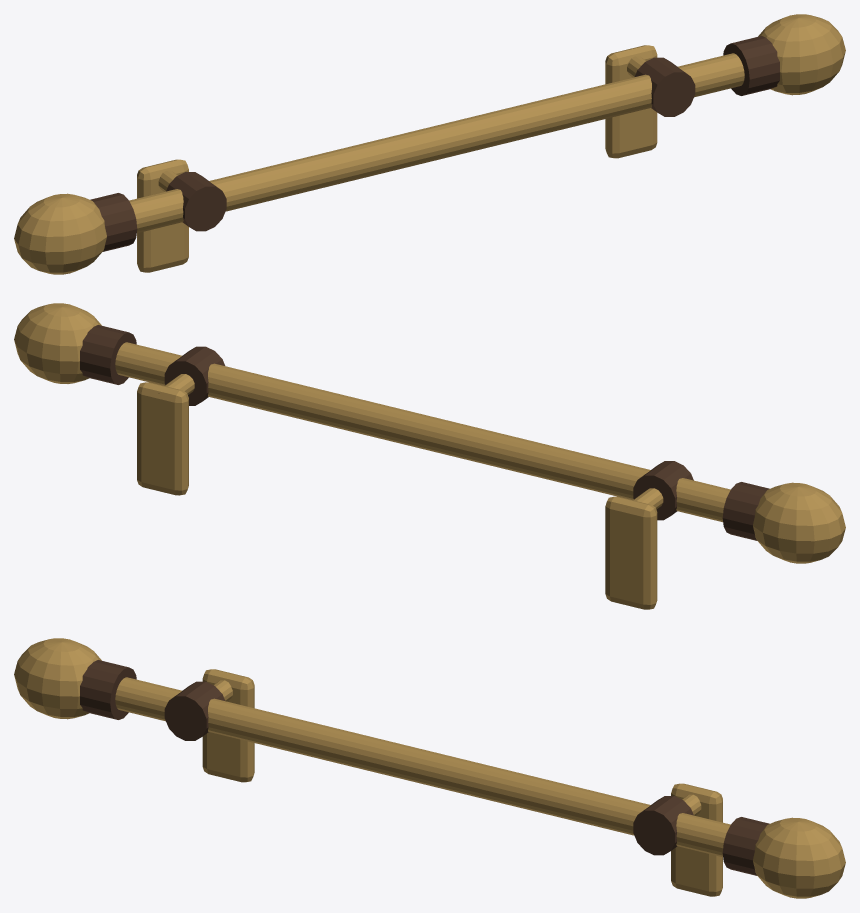
Rendered from curtain_rod.glb.
3 views of the same model, one above another, from view 1: azimuth 30°, elevation 25°; view 2: azimuth 150°, elevation 25°; view 3: azimuth 330°, elevation 25° (orthographic).
Visible parts, largest first — view 1: CurtainRod, RodFinial, RodFinial.001, WallBracketPlate.001, WallBracketPlate, RodCradle.001, RodCradle, FinialCollar.001, FinialCollar; view 2: CurtainRod, RodFinial, WallBracketPlate, WallBracketPlate.001, RodFinial.001, FinialCollar.001, FinialCollar, RodCradle, RodCradle.001; view 3: CurtainRod, RodFinial.001, RodFinial, WallBracketPlate, WallBracketPlate.001, RodCradle, RodCradle.001, FinialCollar, FinialCollar.001.
Boxes of the visible parts, x1=… form: CurtainRod: x1=129, y1=53, x2=744, y2=233; RodFinial: x1=14, y1=193, x2=106, y2=274; RodFinial.001: x1=758, y1=14, x2=845, y2=95; WallBracketPlate.001: x1=605, y1=45, x2=657, y2=158; WallBracketPlate: x1=137, y1=159, x2=188, y2=272; RodCradle.001: x1=634, y1=57, x2=695, y2=116; RodCradle: x1=166, y1=172, x2=226, y2=231; FinialCollar.001: x1=723, y1=36, x2=779, y2=95; FinialCollar: x1=90, y1=193, x2=137, y2=251; CurtainRod: x1=115, y1=342, x2=730, y2=522; RodFinial: x1=753, y1=482, x2=845, y2=563; WallBracketPlate: x1=605, y1=496, x2=657, y2=609; WallBracketPlate.001: x1=137, y1=382, x2=188, y2=495; RodFinial.001: x1=14, y1=303, x2=101, y2=383; FinialCollar.001: x1=80, y1=325, x2=136, y2=384; FinialCollar: x1=722, y1=482, x2=769, y2=540; RodCradle: x1=633, y1=461, x2=693, y2=520; RodCradle.001: x1=164, y1=346, x2=225, y2=405; CurtainRod: x1=115, y1=677, x2=730, y2=857; RodFinial.001: x1=753, y1=817, x2=845, y2=898; RodFinial: x1=14, y1=638, x2=101, y2=719; WallBracketPlate: x1=202, y1=669, x2=254, y2=782; WallBracketPlate.001: x1=671, y1=783, x2=722, y2=896; RodCradle: x1=164, y1=681, x2=225, y2=740; RodCradle.001: x1=633, y1=796, x2=693, y2=855; FinialCollar: x1=80, y1=660, x2=136, y2=719; FinialCollar.001: x1=722, y1=817, x2=769, y2=875.
Bounding box in the file's own units: 1.23 × 0.182 × 0.1495.
